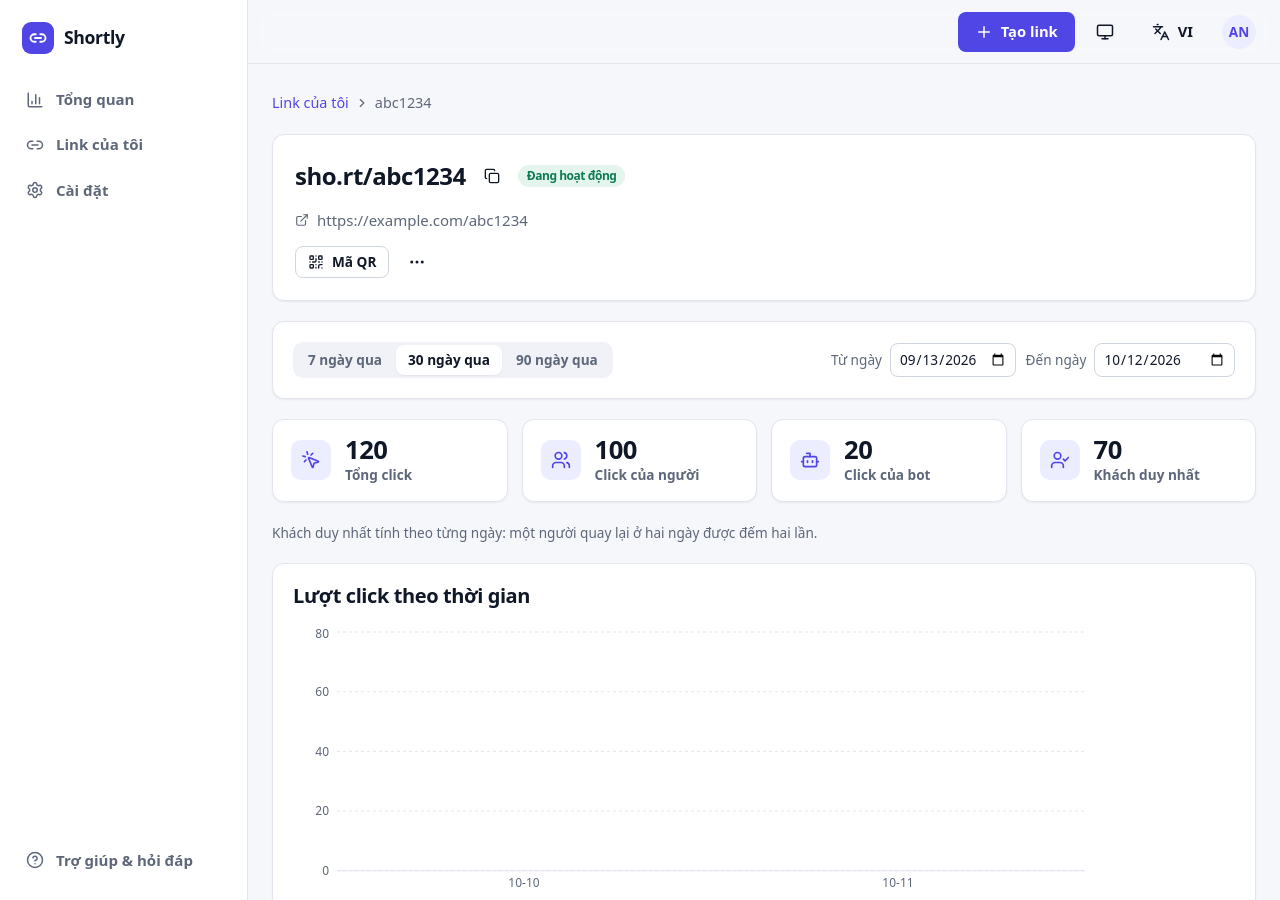
thao tác ngay trên trang chi tiết › xoá link quay về danh sách
Check: the link "sho.rt/abc1234" is shown, box x1=295 y1=157 x2=466 y2=194
What coordinates should you click on to do the following:
click the button named "Thêm thao tác"
I would click on:
 (417, 262)
Its box is x1=401 y1=246 x2=433 y2=278.
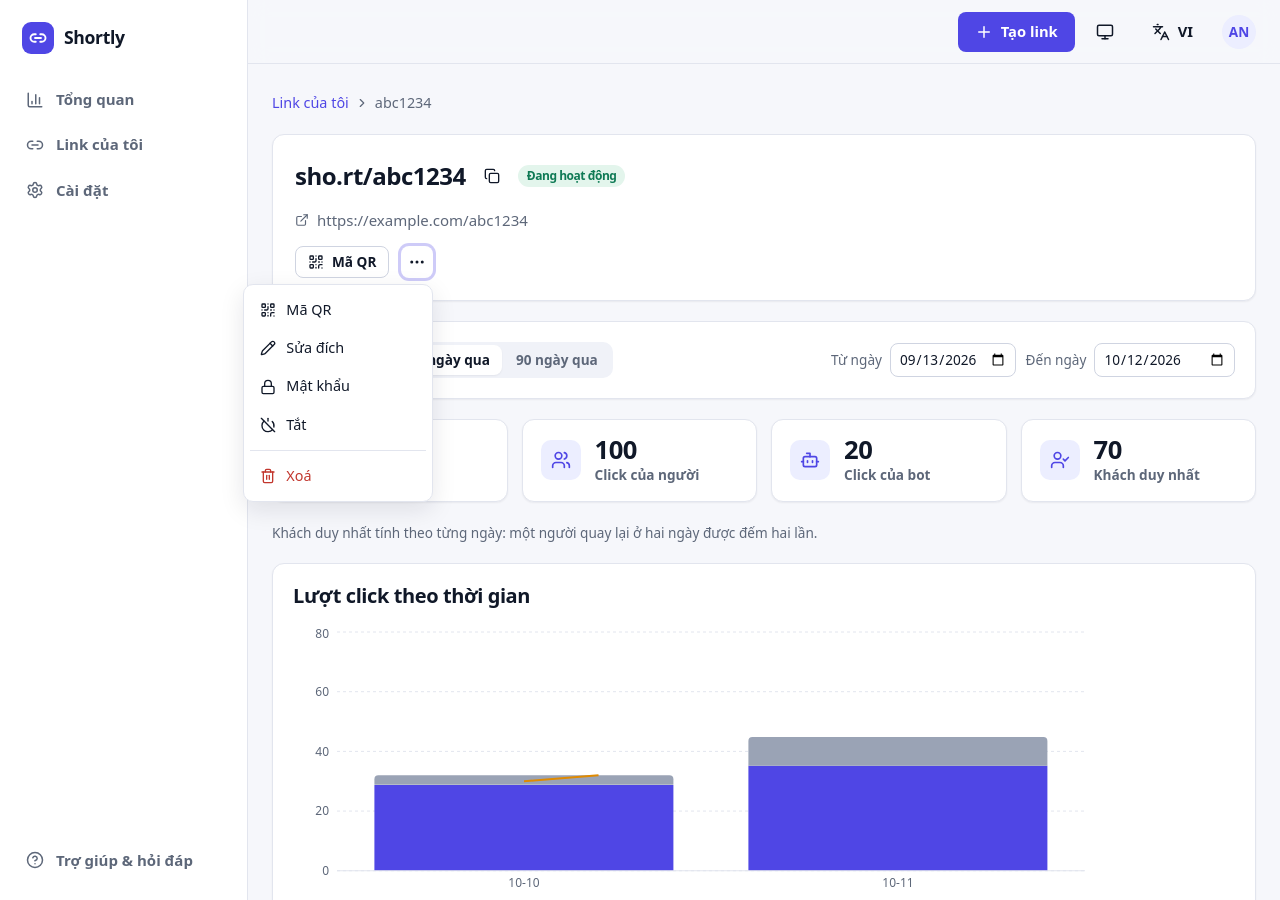
What coordinates should you click on to do the following:
click the menu item "Xoá"
I would click on:
 (338, 476)
Its box is x1=250 y1=457 x2=426 y2=495.
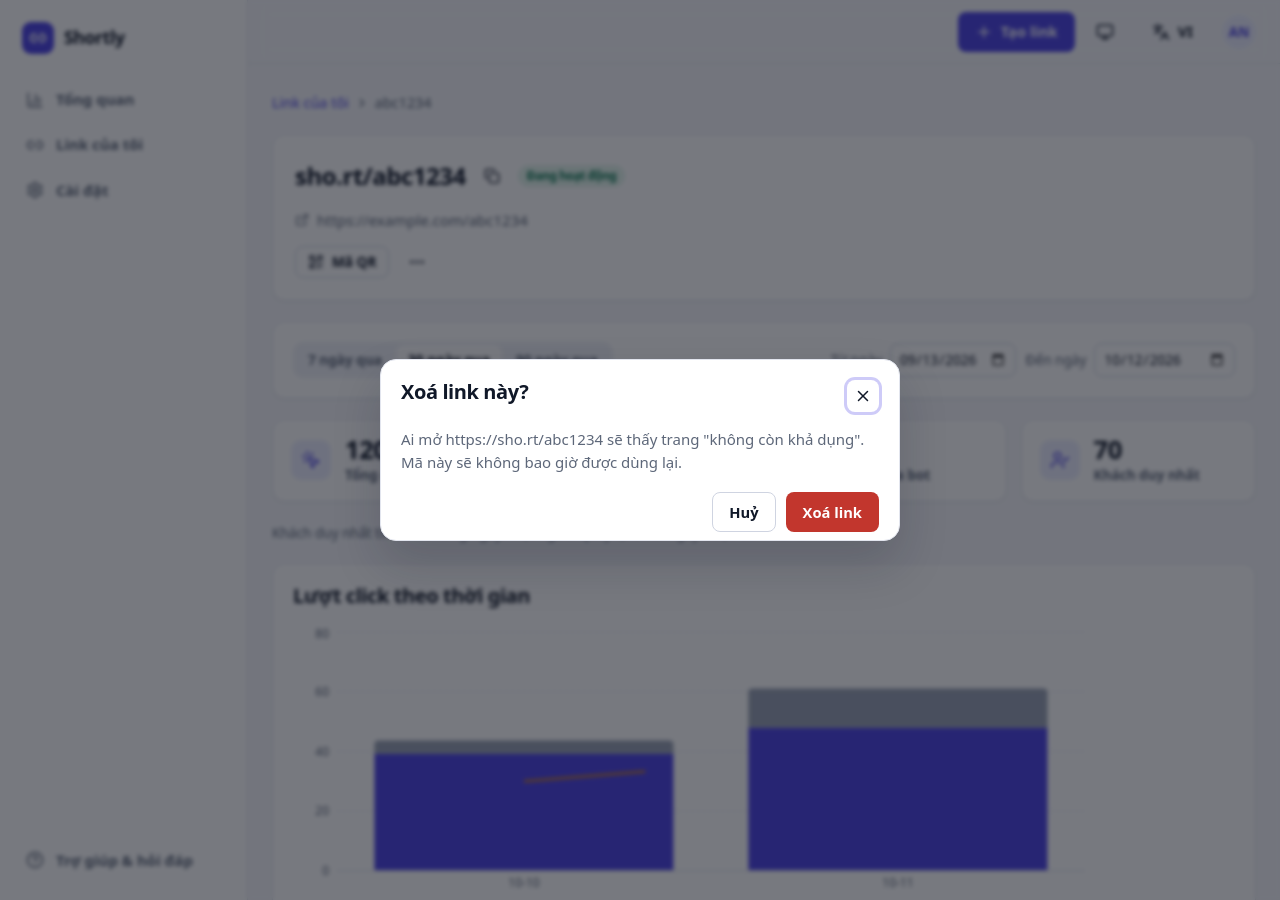
What coordinates should you click on to do the following:
click the button "Xoá link"
I would click on:
 (832, 512)
Its box is x1=786 y1=492 x2=879 y2=532.
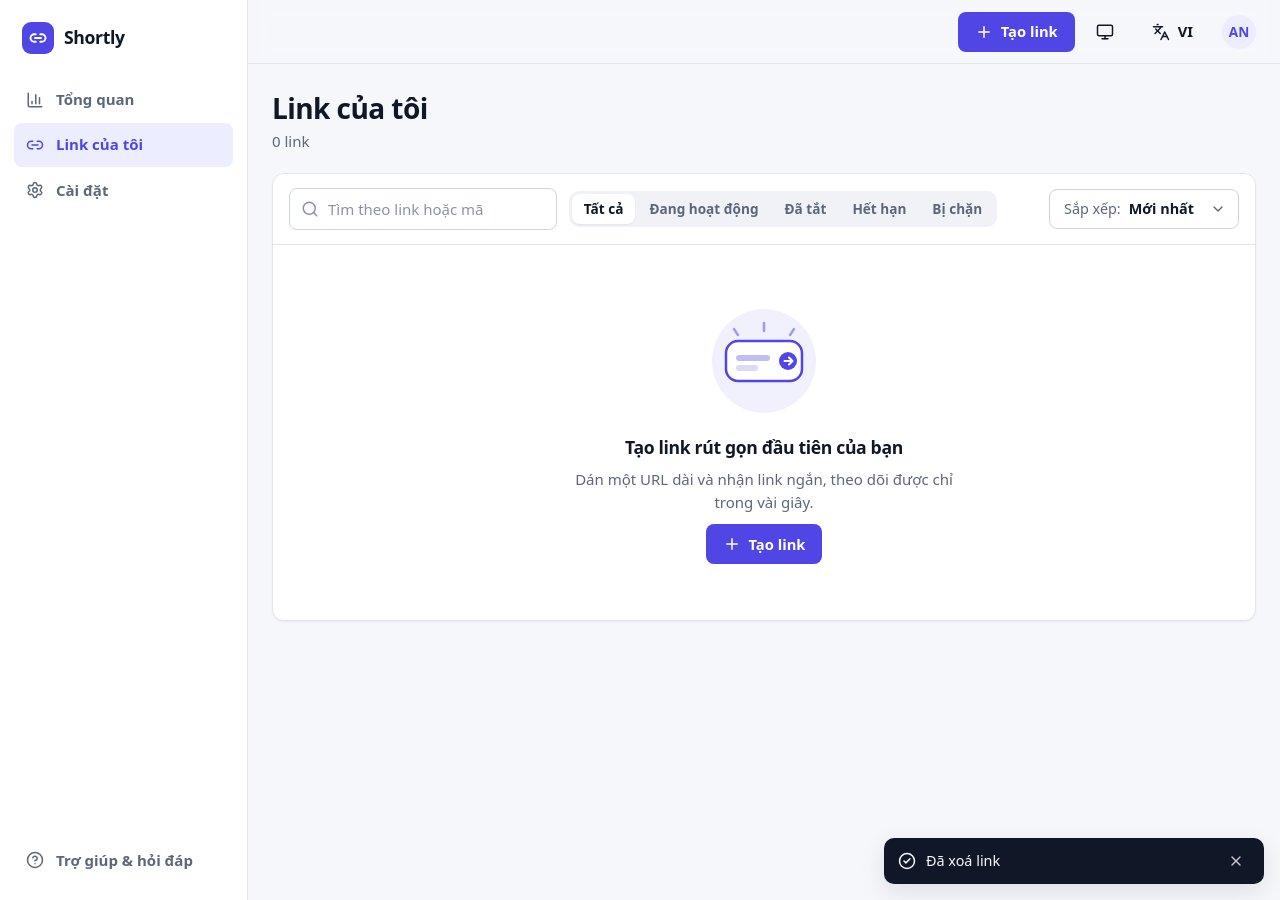
Check: the heading "Link của tôi" is shown, box x1=272 y1=92 x2=428 y2=126
Check: the heading "Tạo link rút gọn đầu tiên của bạn" is shown, box x1=625 y1=437 x2=903 y2=458
